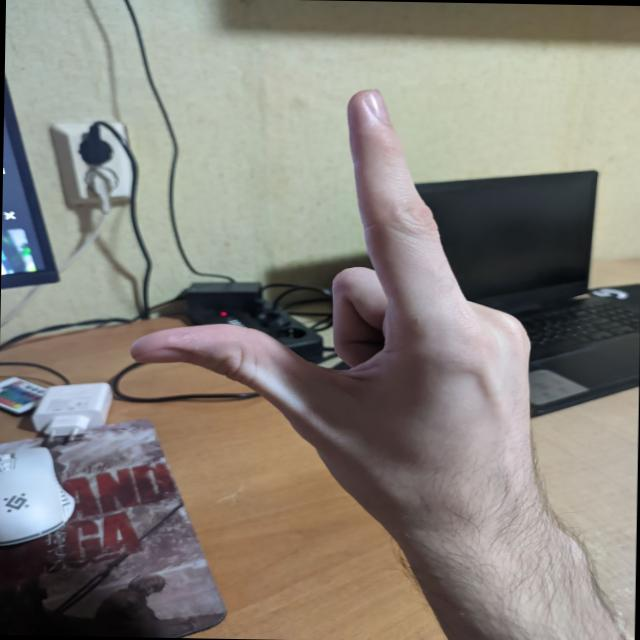-: (121, 41, 590, 508)
